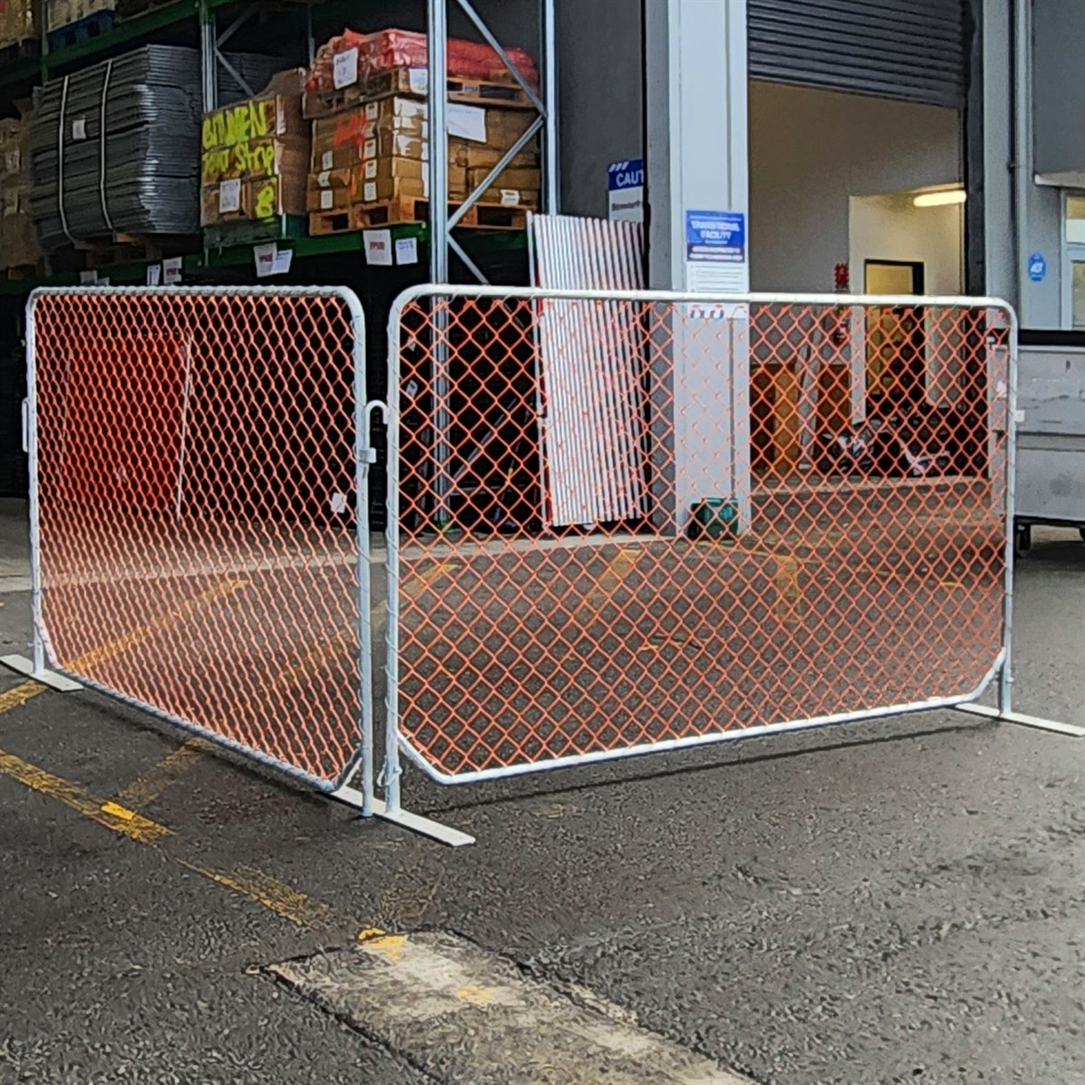Barrier: (22, 247, 1085, 854)
